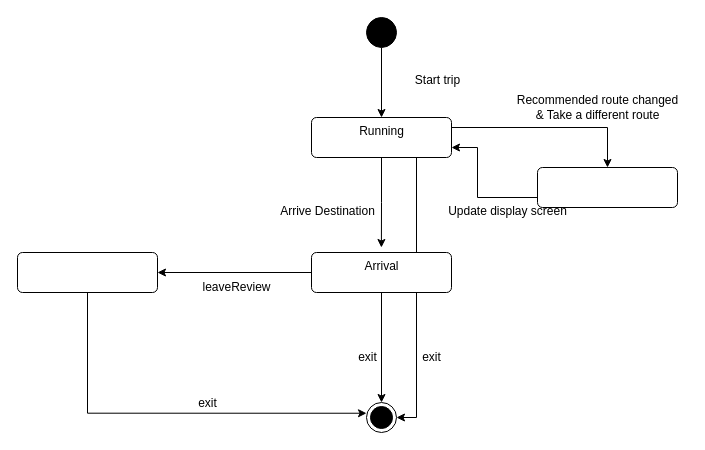
The diagram is 705 pixels wide and 450 high, and some of its shapes have lost their labels. The centre of each missing label's shape, as x and y in pixels:
Review: the point at 87,272
Updating current position&time: the point at 607,187
